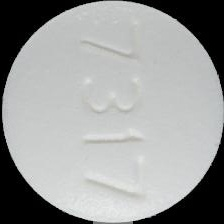54868-1129: (0, 0, 224, 224)
